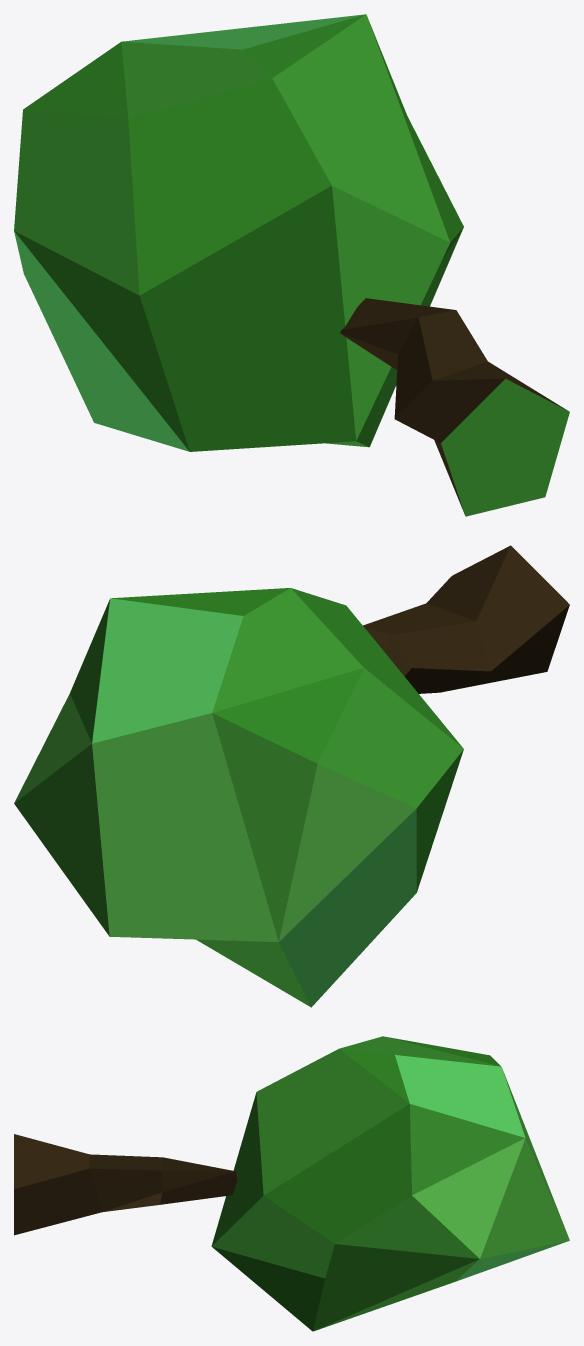
Rendered from tree_6.fbx.
3 views of the same model, one above another, from view 1: azimuth 30°, elevation 25°; view 2: azimuth 150°, elevation 25°; view 3: azimuth 270°, elevation 25° (orthographic). The views are drawn at different scales.
Parts seen in each view (by area): view 1: tree_6; view 2: tree_6; view 3: tree_6.
Part boxes in pixels (x1,y1,x2,y2): tree_6: [14, 14, 569, 516]; tree_6: [14, 545, 569, 1007]; tree_6: [14, 1036, 569, 1331].
Bounding box in the file's own units: 79.16 × 71.73 × 140.
